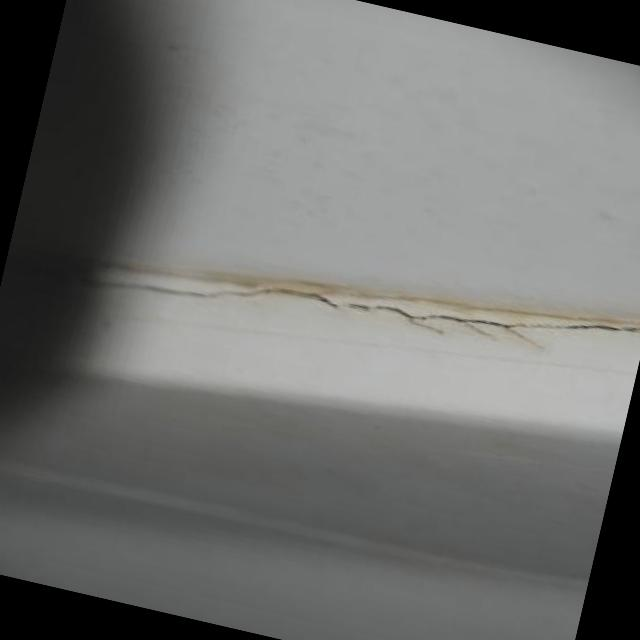crack: (448, 283, 640, 362), (259, 271, 447, 333), (92, 254, 256, 323)
